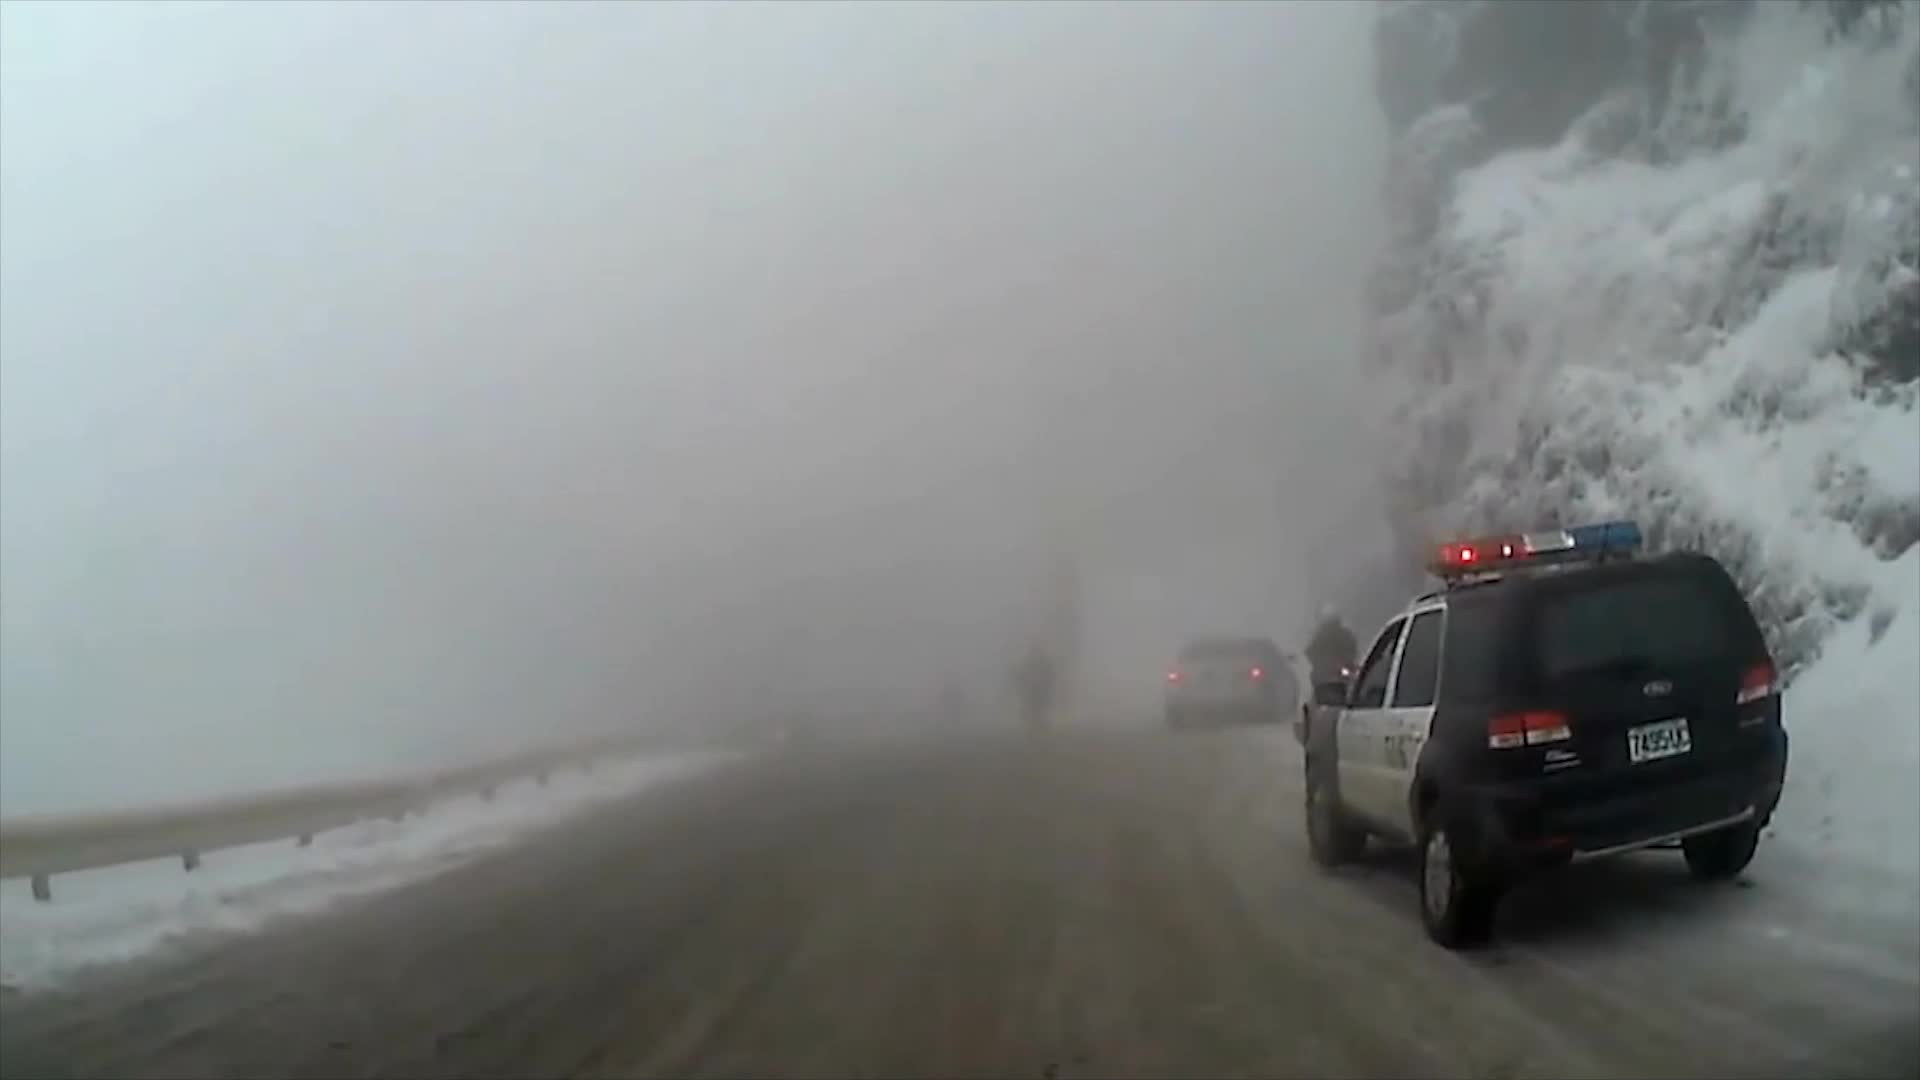pedestrian: (1303, 601, 1362, 750)
vehicle: (1293, 517, 1791, 944), (1159, 632, 1295, 730)
